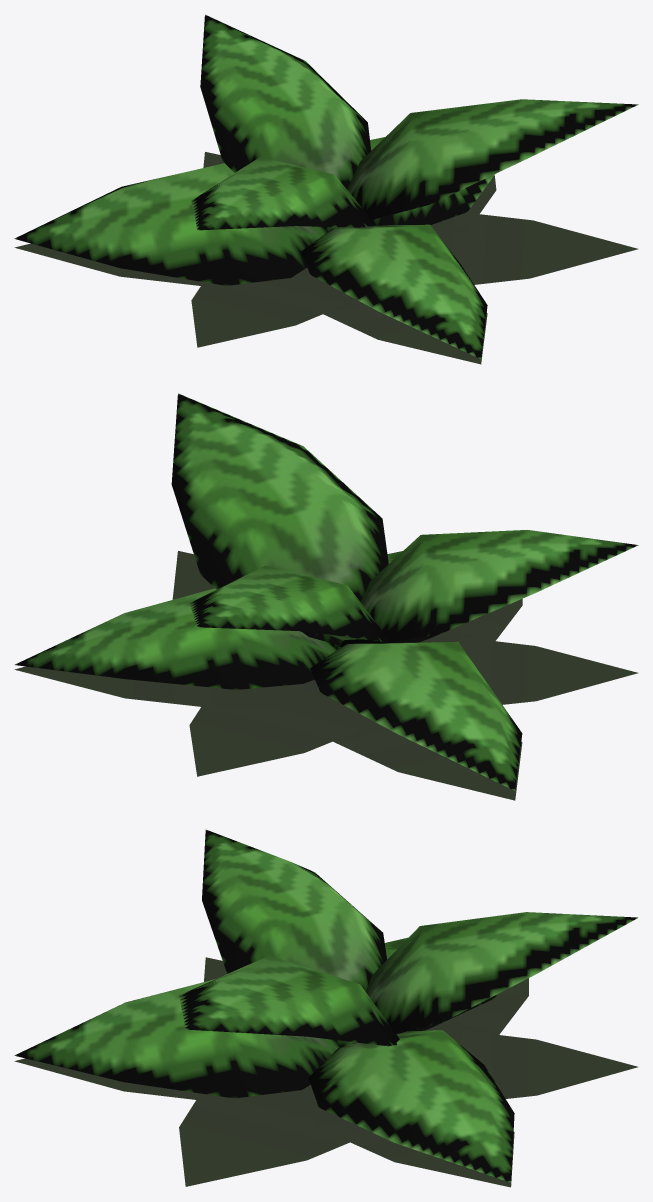
Rendered from deco_bushPlant.FBX.
The picture shows the model from 3 angles, top to bottom: view 1: azimuth 30°, elevation 25°; view 2: azimuth 150°, elevation 25°; view 3: azimuth 270°, elevation 25°; orthographic projection. The views are drawn at different scales.
Visible parts, largest first — view 1: deco_bushPlant; view 2: deco_bushPlant; view 3: deco_bushPlant.
Boxes of the visible parts, bbox=[...] form: deco_bushPlant: bbox=[14, 14, 638, 364]; deco_bushPlant: bbox=[14, 393, 638, 800]; deco_bushPlant: bbox=[14, 829, 637, 1187].
Size of the model in its own units: 2.9 by 0.8556 by 3.08.
1 material, 1 textured.
